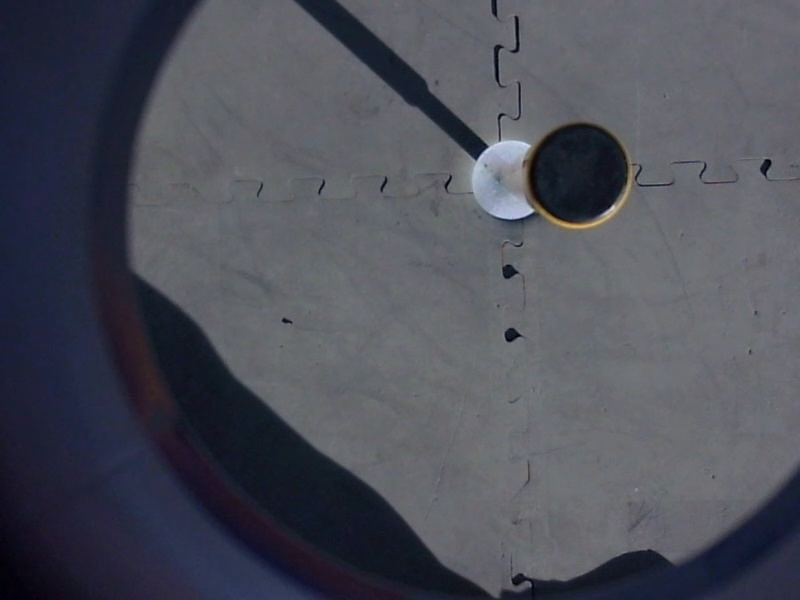tip: (521, 116, 639, 237)
